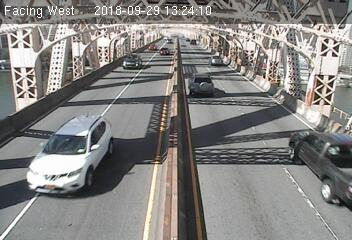car: (27, 112, 119, 202), (284, 124, 352, 209), (186, 71, 218, 99), (120, 52, 142, 72), (208, 54, 226, 67), (157, 46, 173, 55), (147, 44, 158, 50)
